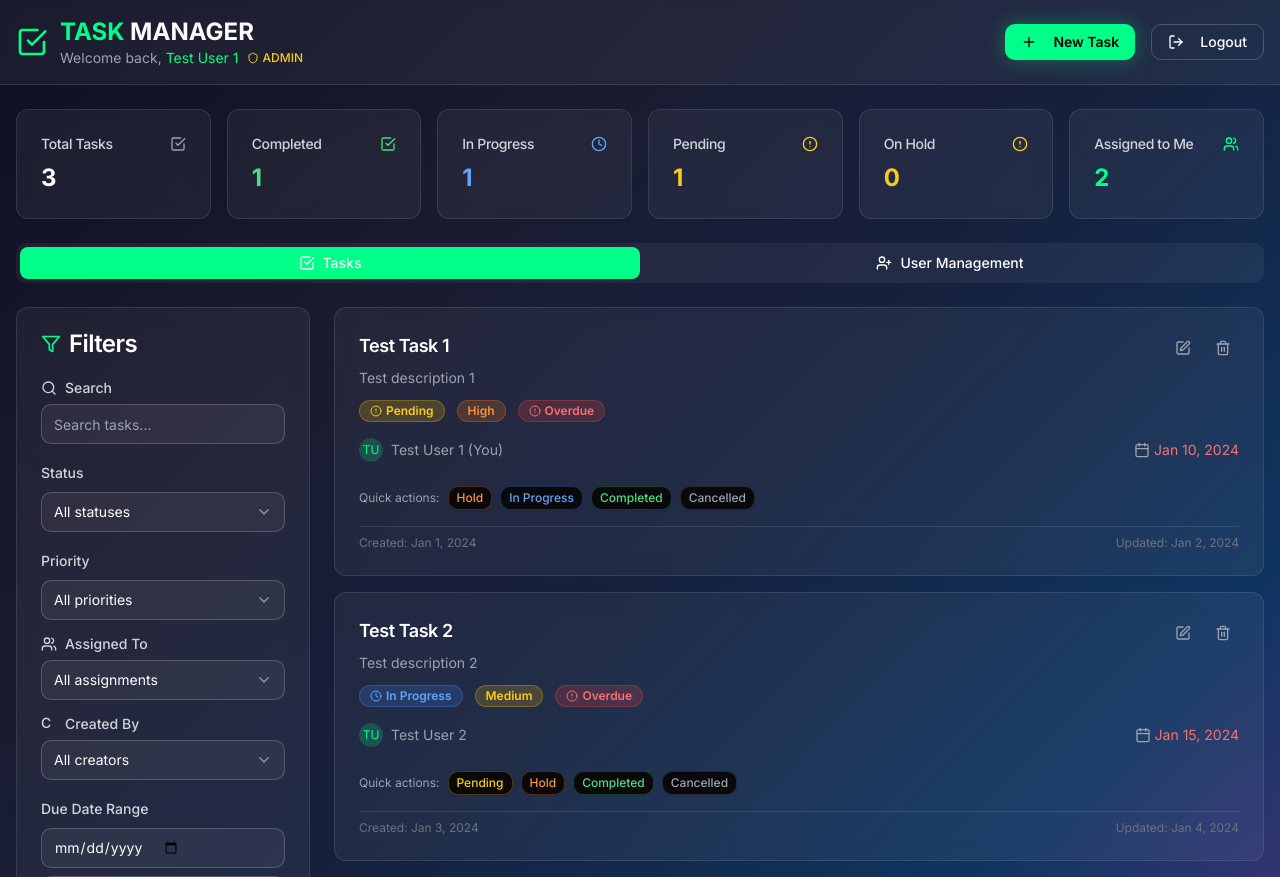
TaskDashboard › opens task form when create button is clicked
Click the button "New Task": x=1070, y=42 [1005,24,1135,60]
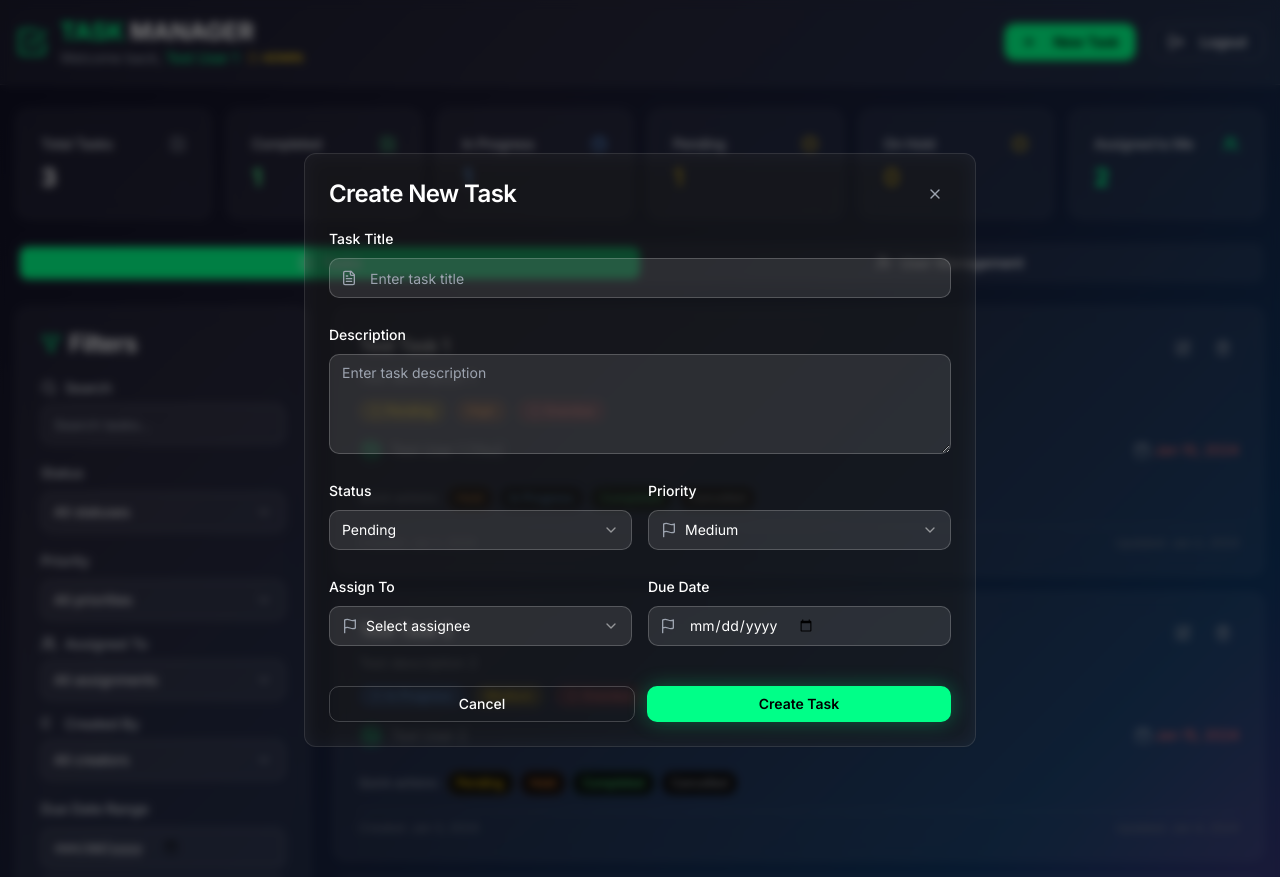
Now the heading "Create New Task" is shown, box [329,182,516,206]
